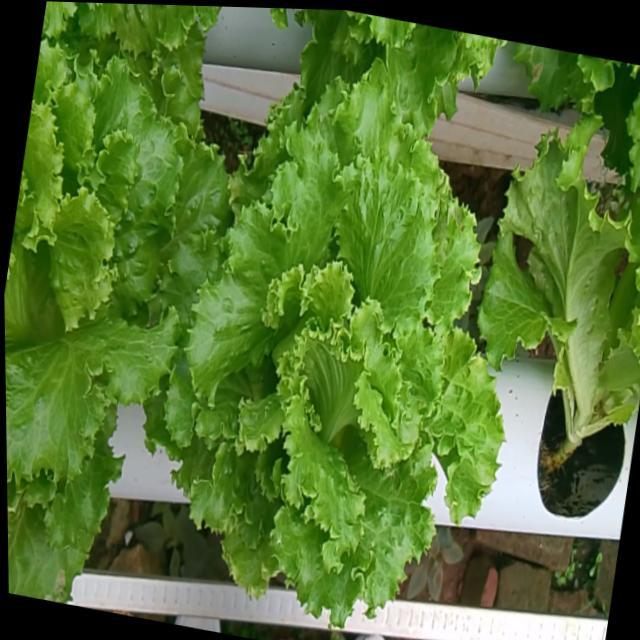Mature: (152, 90, 492, 635), (4, 67, 218, 502)
